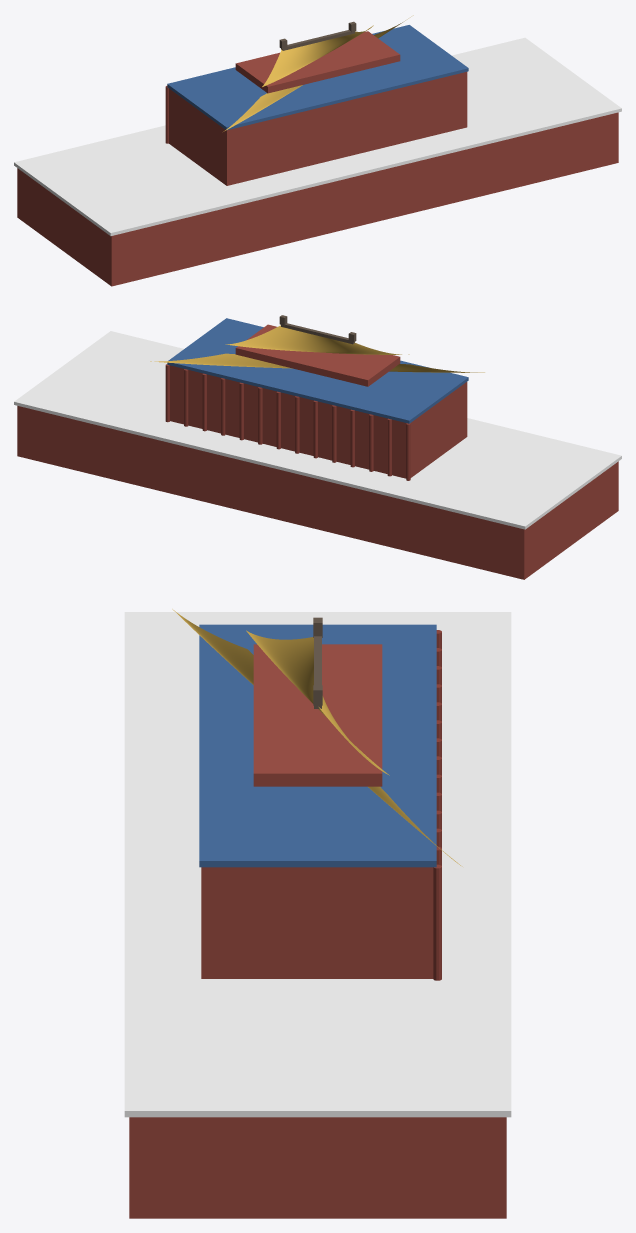
Rendered from tiananmen.glb.
3 renders of one model, top to bottom at view 1: azimuth 30°, elevation 25°; view 2: azimuth 150°, elevation 25°; view 3: azimuth 270°, elevation 25°, orthographic. The views are drawn at different scales.
Visible parts, largest first — view 1: tiananmen; view 2: tiananmen; view 3: tiananmen.
Boxes of the visible parts, x1,y1,x2,y2 form: tiananmen: (14,15,621,286); tiananmen: (14,315,621,579); tiananmen: (124,609,511,1218).
Size of the model in its own units: 119 by 35.28 by 39.
